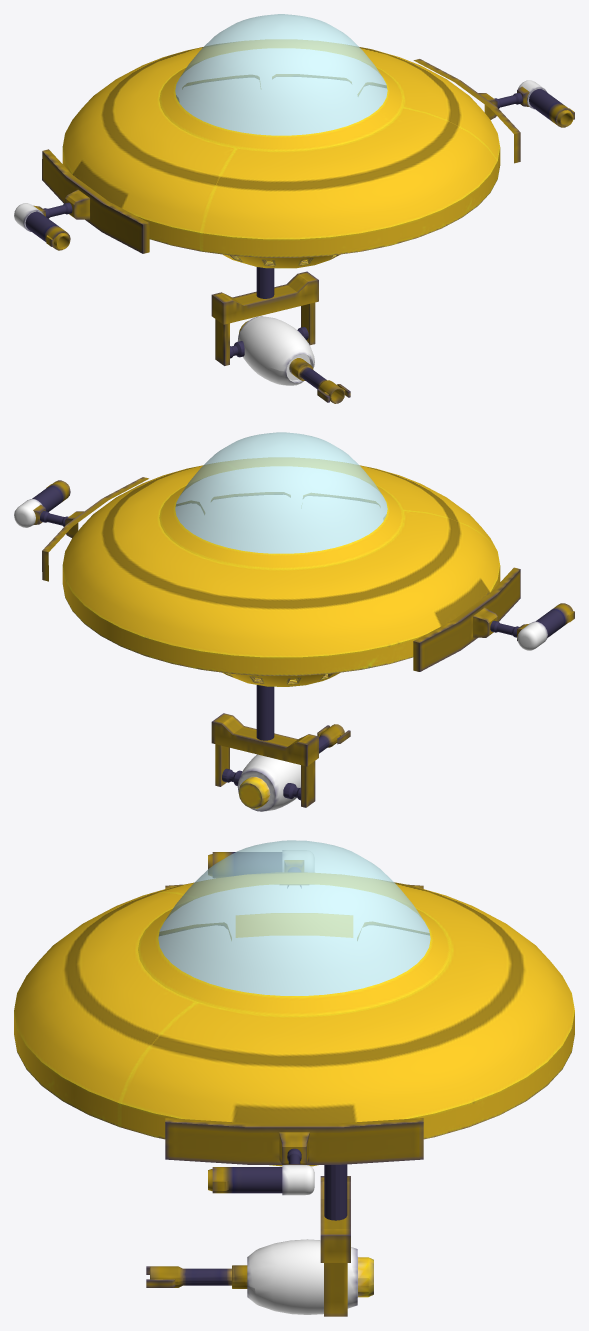
File: saucer.glb
3 views of the same model, one above another, from view 1: azimuth 30°, elevation 25°; view 2: azimuth 150°, elevation 25°; view 3: azimuth 270°, elevation 25° (orthographic). The views are drawn at different scales.
Parts seen in each view (by area): view 1: saucer, guns; view 2: saucer, guns; view 3: saucer, guns.
Part boxes in pixels (x1,y1,x2,y2): saucer: [62, 14, 500, 268]; guns: [14, 59, 574, 403]; saucer: [62, 432, 500, 686]; guns: [14, 477, 574, 811]; saucer: [14, 840, 574, 1166]; guns: [146, 850, 423, 1316].
Bounding box in the file's own units: 2.76 × 1.8 × 2.
Materials: 2 (1 with a texture image).
